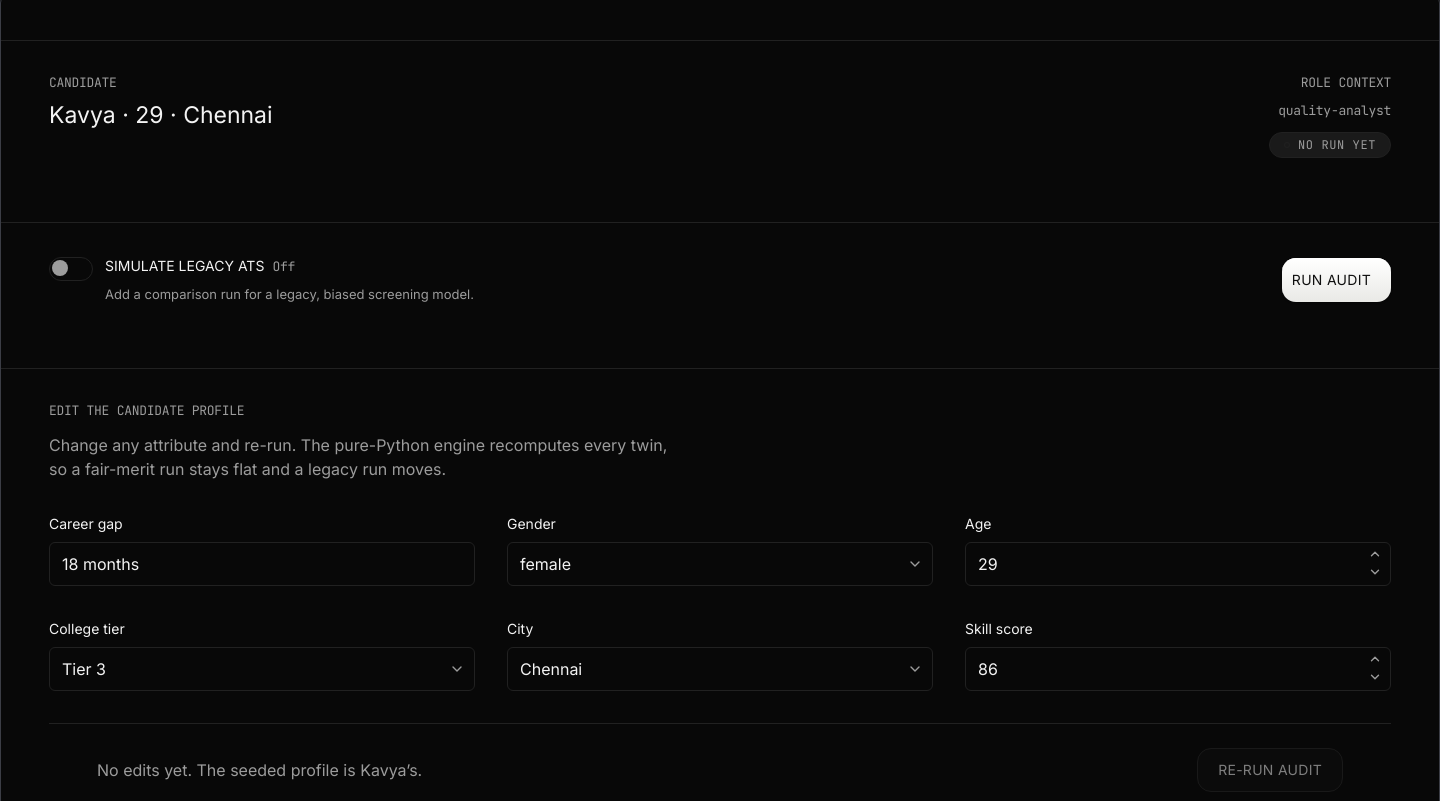
Test: GhostTwinPanel › sends true in legacy mode and renders its flagged table
Click the checkbox labelled "Simulate Legacy ATS" at x=71, y=269, box 49,255 -> 474,304
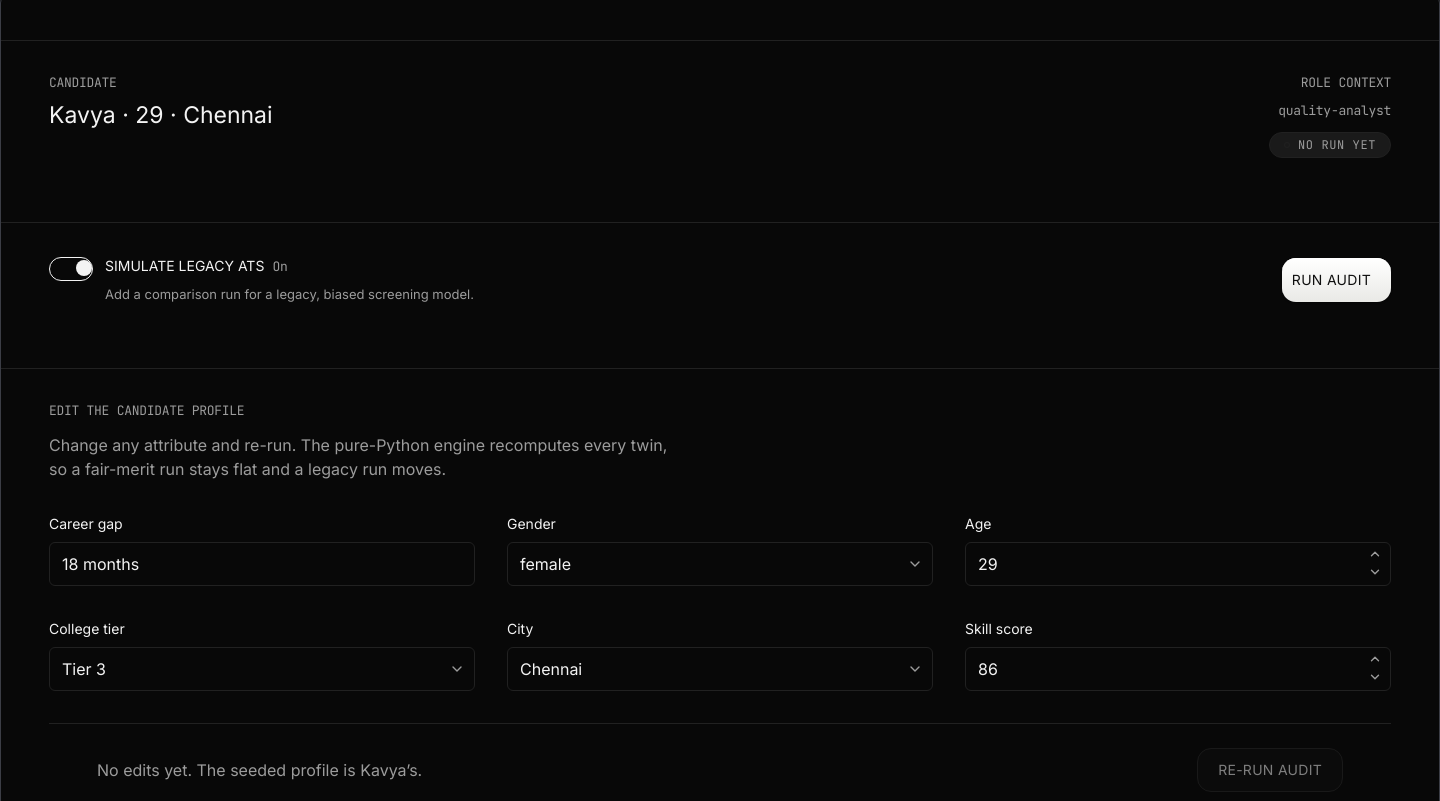
expect the checkbox labelled "Simulate Legacy ATS" is checked: met, box 49,255 -> 474,304
Click the button "Run Audit" at x=1336, y=280, box 1282,258 -> 1391,302
(page scrolled)
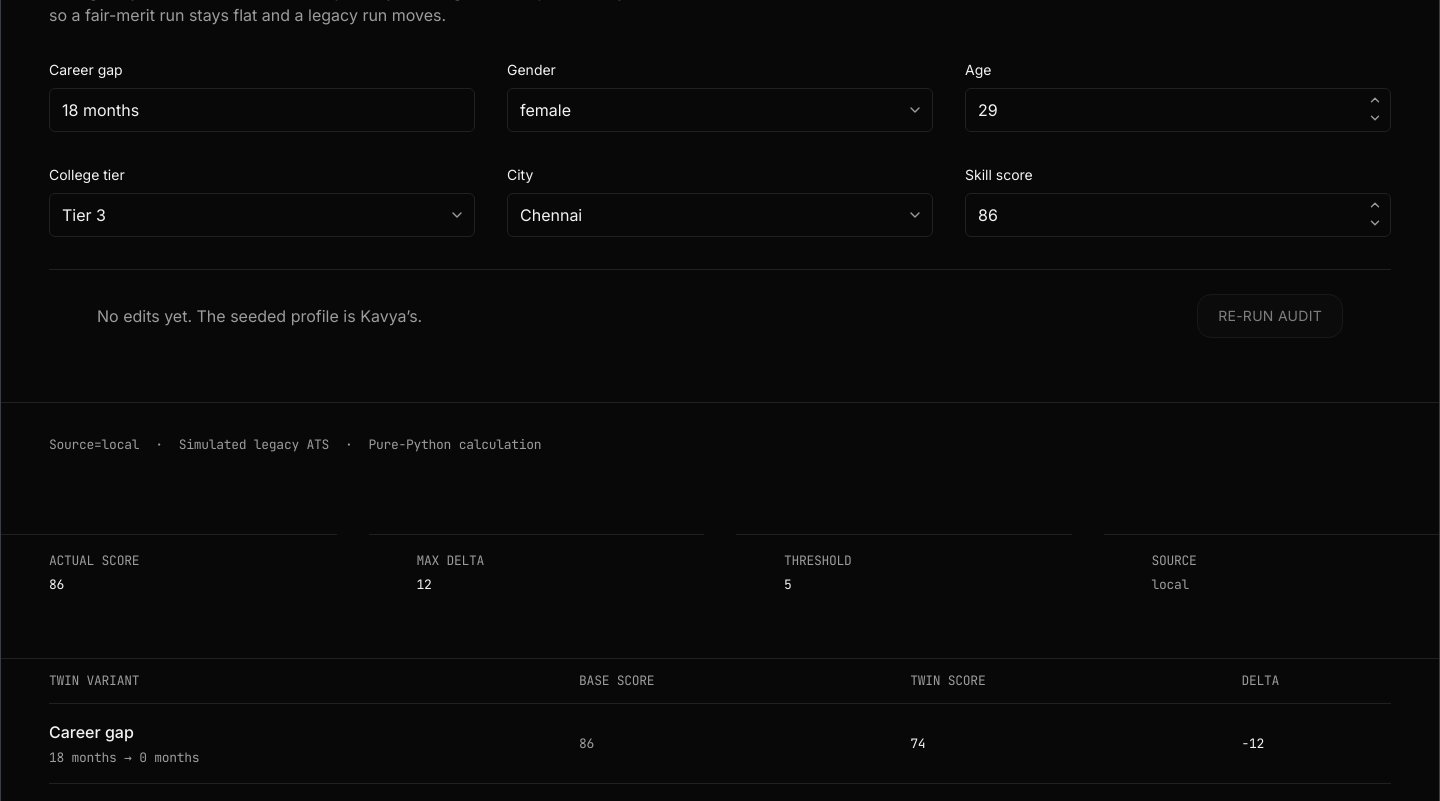
expect the cell "86" in the row of "18 months" is shown: met, box 579,734 -> 594,752
expect the cell "74" is shown: met, box 894,704 -> 1225,784
expect the cell "-12" is shown: met, box 1225,704 -> 1391,784
